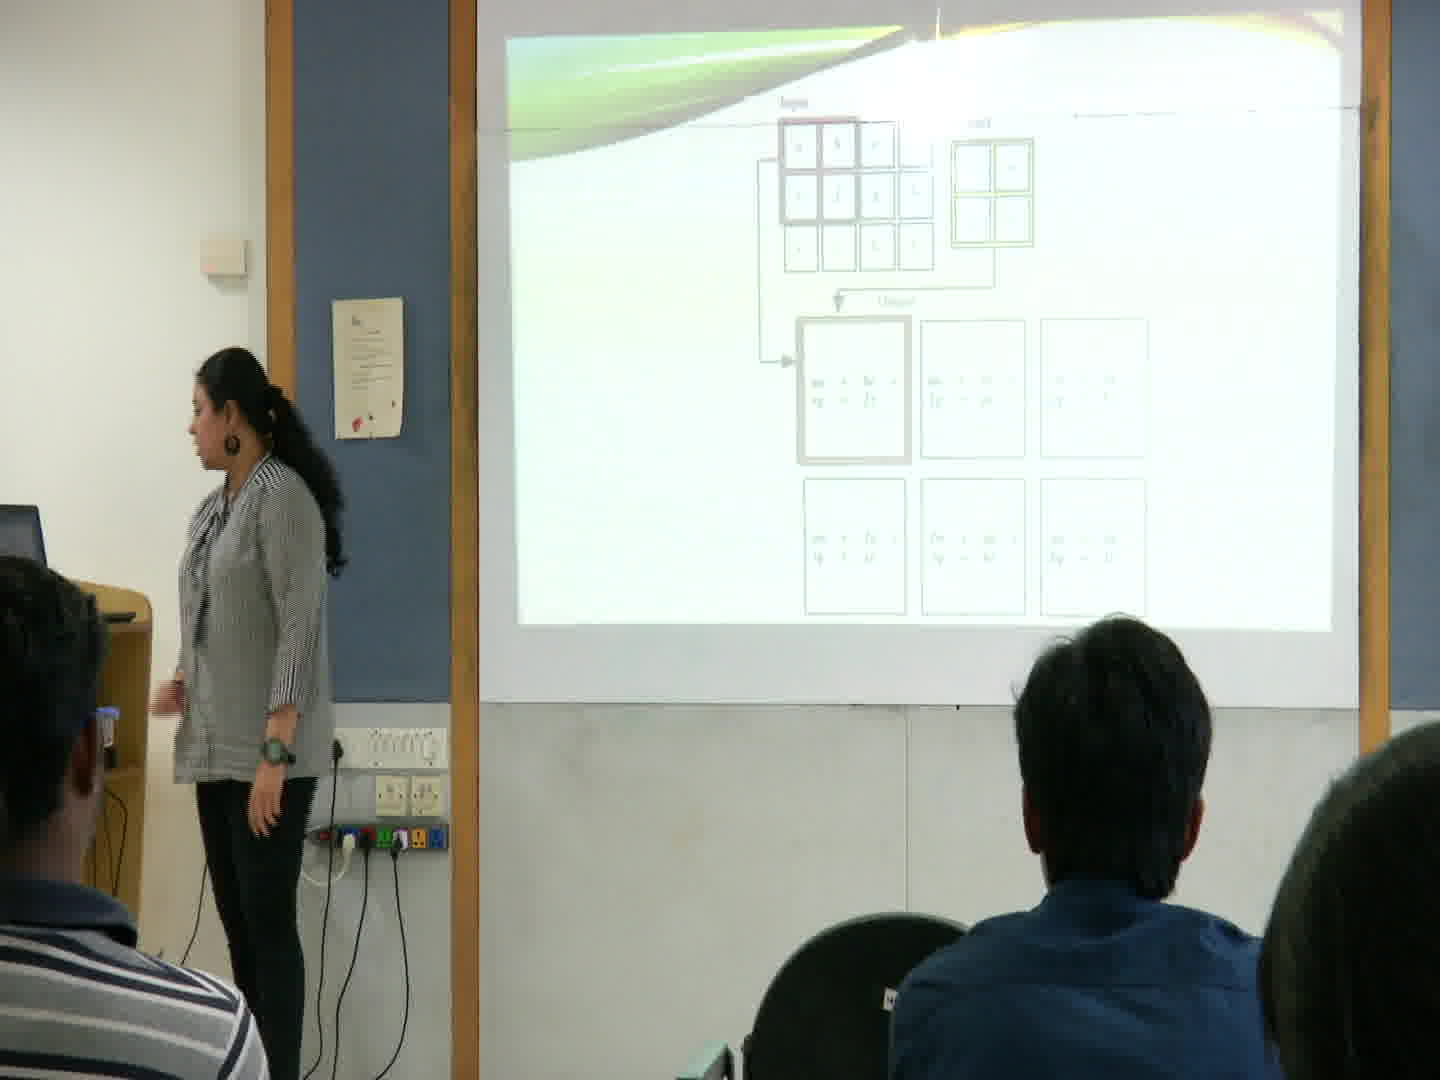slide: (508, 10, 1342, 633)
